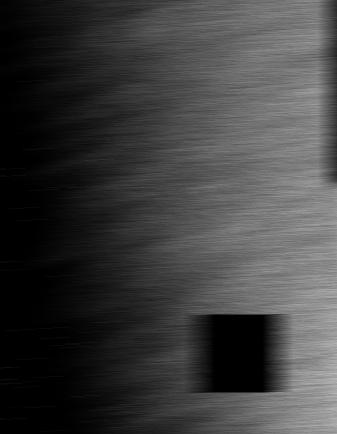Airbag: (0, 0, 336, 434), (329, 165, 337, 434)
